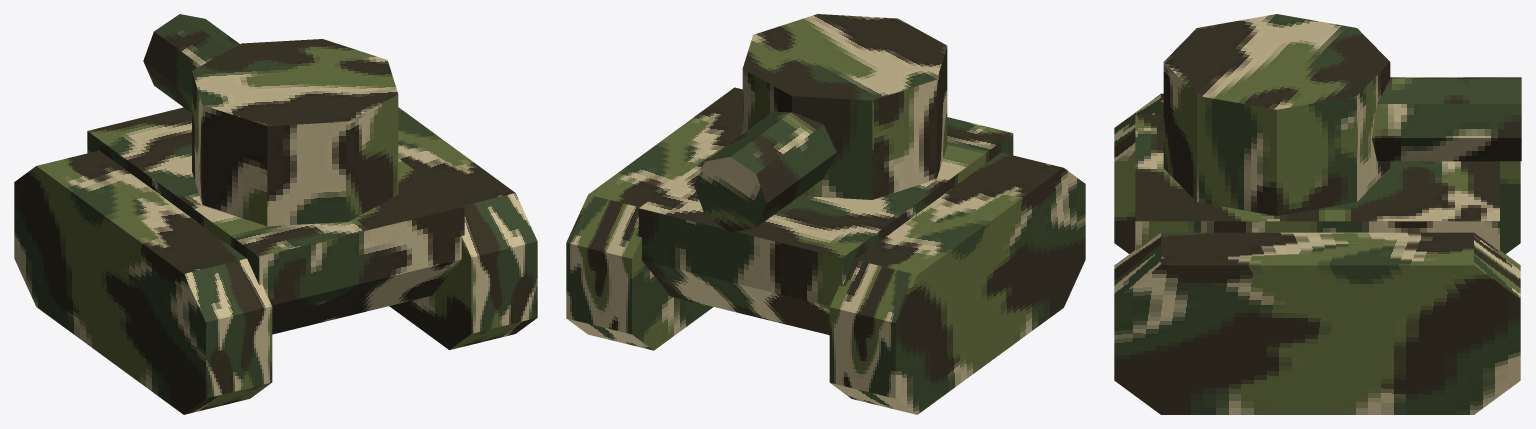
Rendered from tank.glb.
The picture shows the model from 3 angles, left to right: view 1: azimuth 30°, elevation 25°; view 2: azimuth 150°, elevation 25°; view 3: azimuth 270°, elevation 25°; orthographic projection. The views are drawn at different scales.
Visible parts, largest first — view 1: body, treads; view 2: body, treads; view 3: treads, body.
Boxes of the visible parts, x1,y1,x2,y2 form: body: [87, 14, 464, 334]; treads: [14, 107, 537, 414]; body: [638, 14, 1013, 334]; treads: [566, 87, 1085, 414]; treads: [1114, 93, 1520, 414]; body: [1135, 14, 1521, 251].
Size of the model in its own units: 1 by 0.7255 by 1.
1 material, 1 textured.
